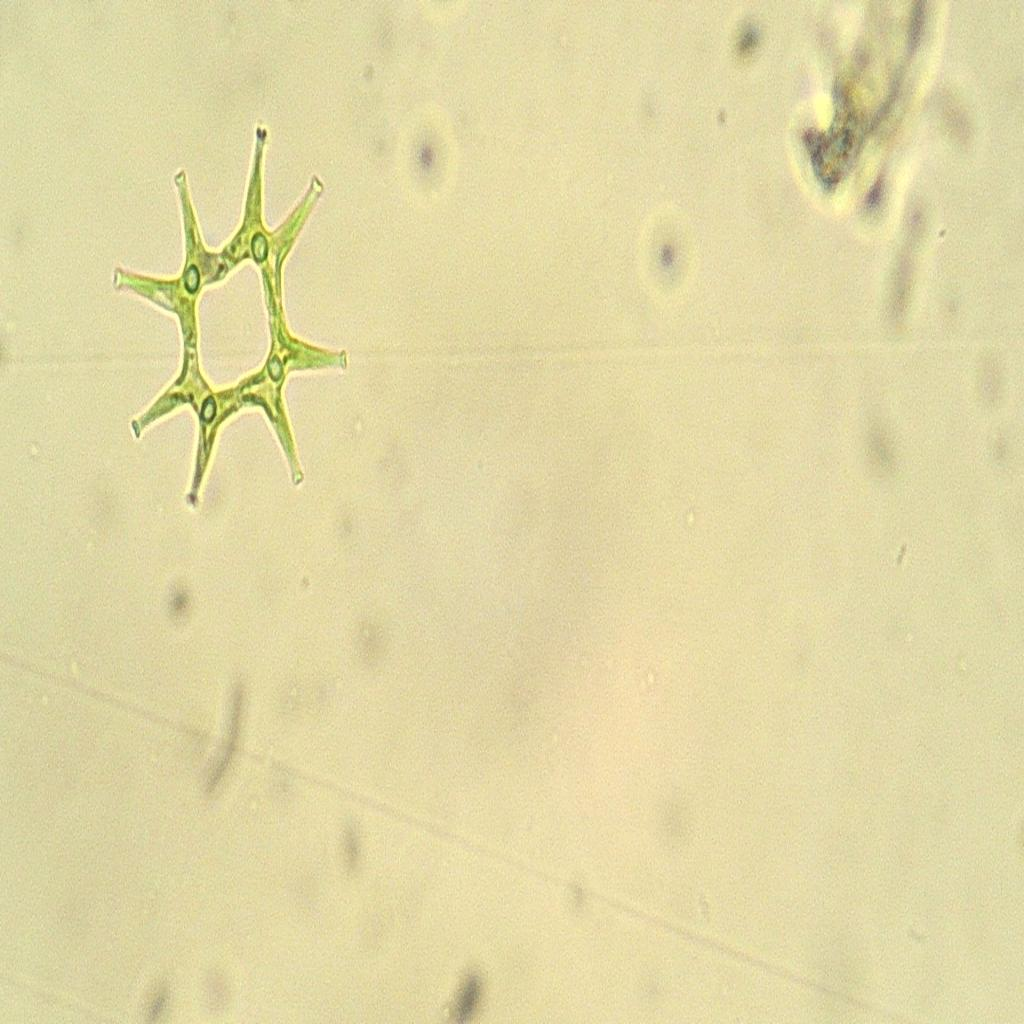Pediastrum_10: (91, 95, 376, 520)
